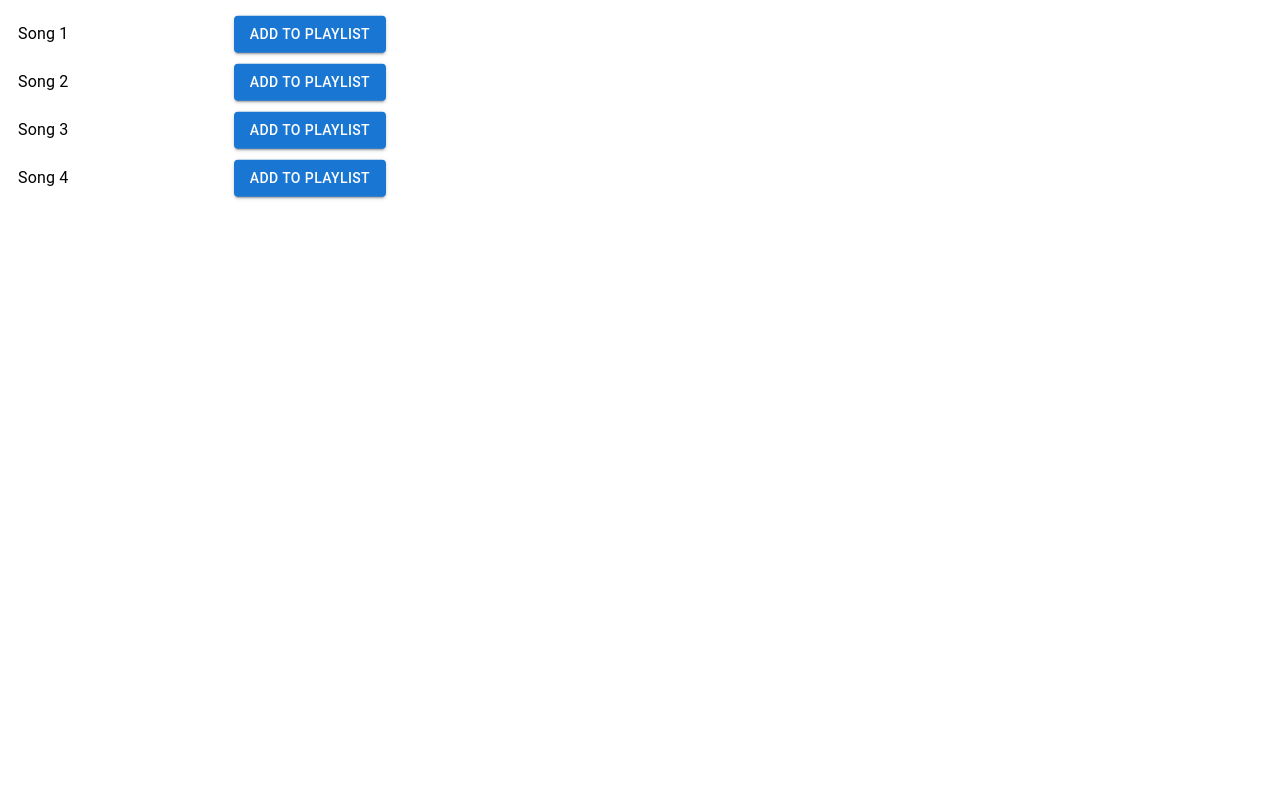
Scenario: Songs Rendering › should display a add to playlist button
Click the button with test id "add-to-playlist-button-1": (310, 34) [234, 16, 386, 52]
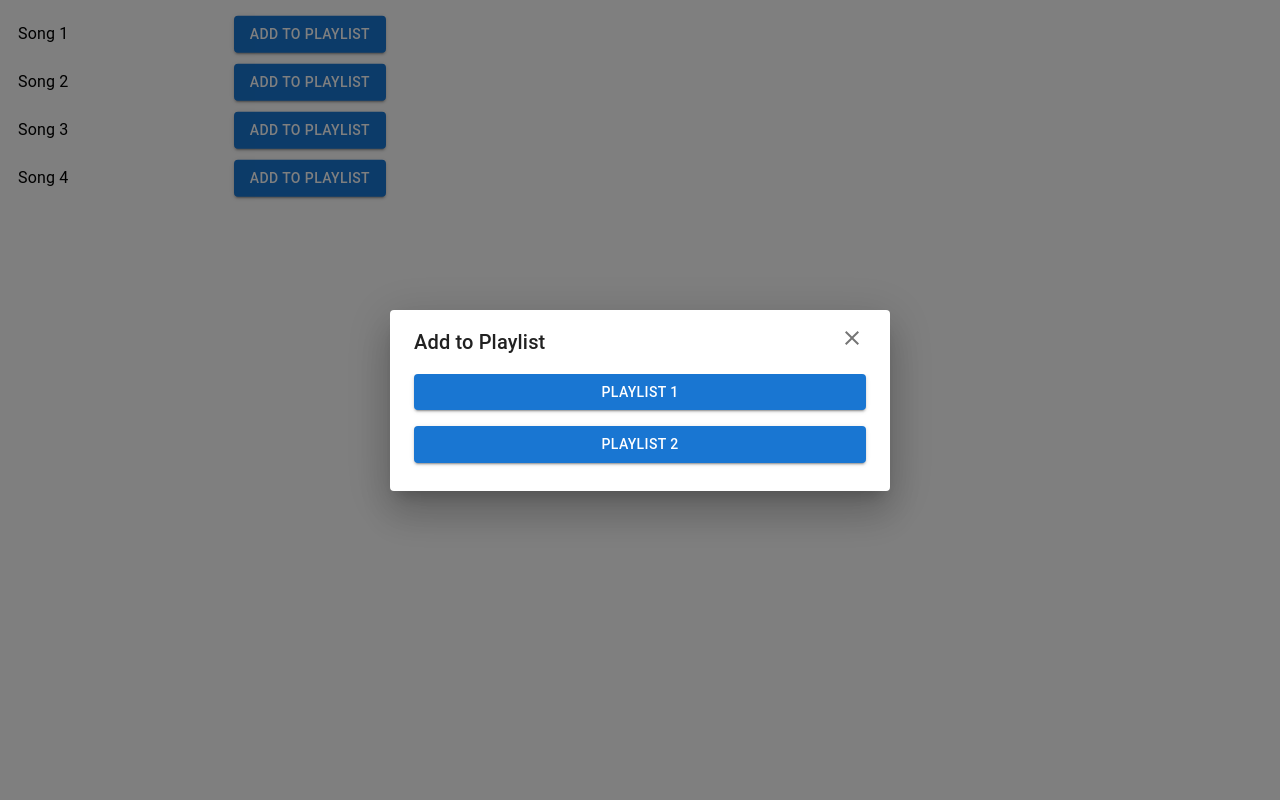
Check: the element with test id "addToPlayList-dialog" is shown
